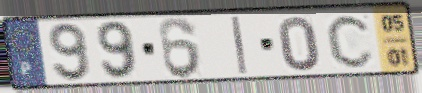0: (275, 12, 323, 73)
6: (157, 15, 204, 81)
9: (46, 21, 92, 83), (95, 19, 140, 81)
C: (324, 12, 377, 70)
I: (228, 14, 250, 76)
